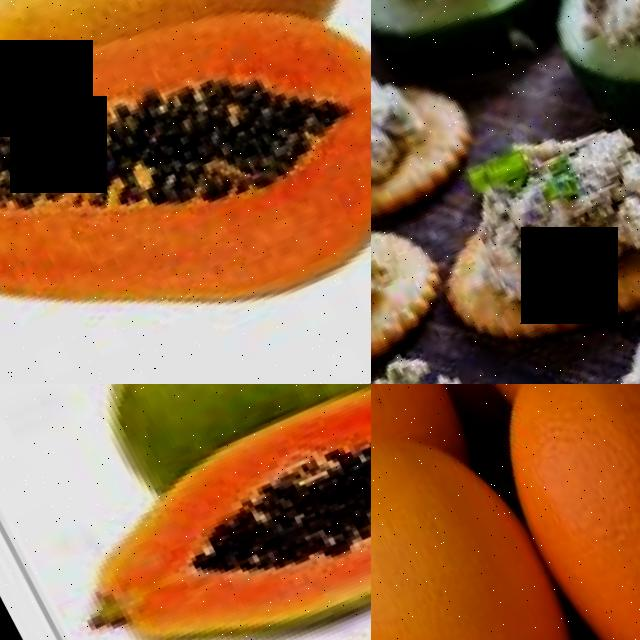orange: (371, 384, 607, 640), (460, 384, 640, 640)
pawpaw: (0, 0, 371, 384), (51, 384, 371, 640), (0, 0, 362, 127), (33, 384, 371, 502)
